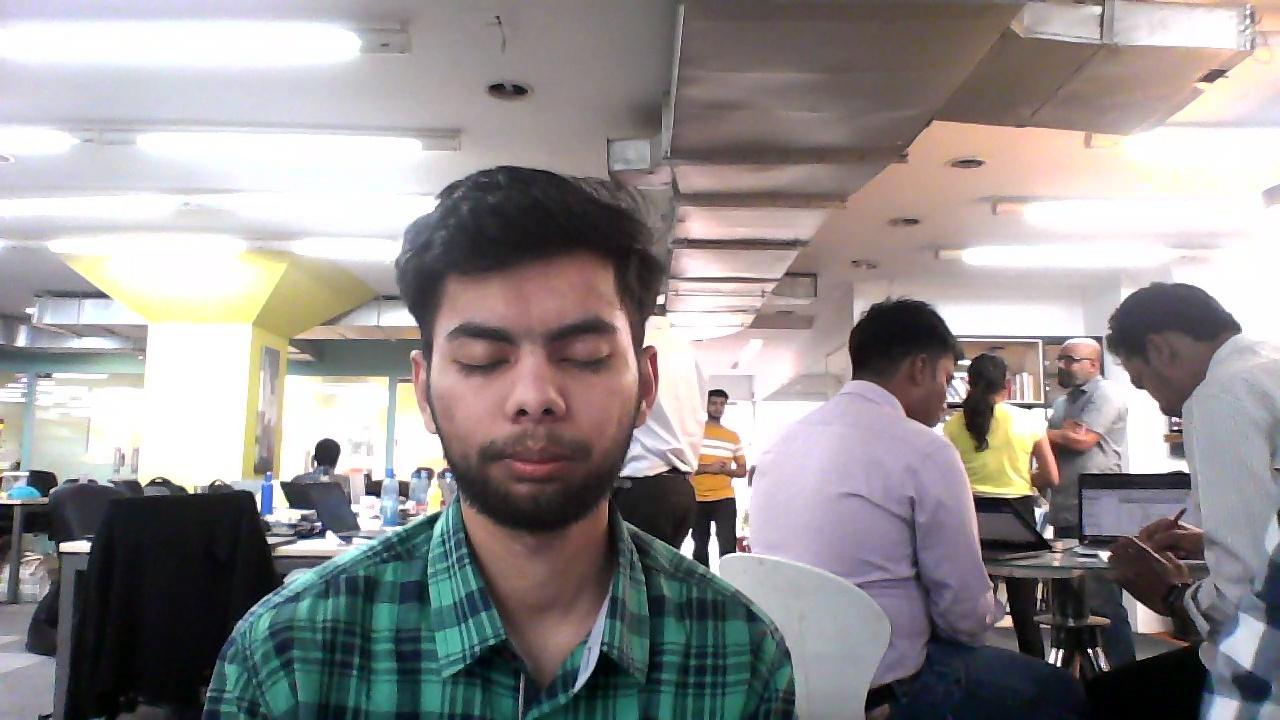closed: (393, 172, 671, 541)
